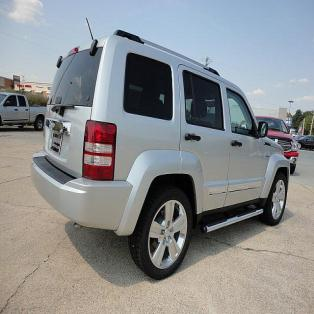Auto: (29, 29, 291, 279)
